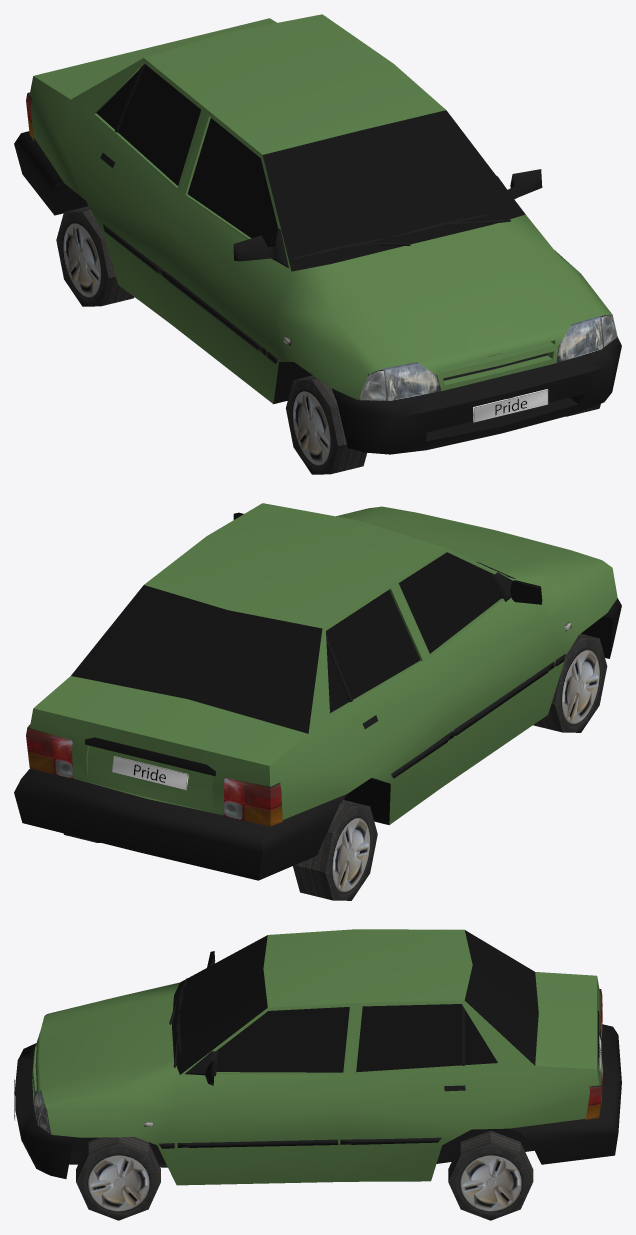
The model's file is Pride_400.FBX.
3 renders of one model, top to bottom at view 1: azimuth 30°, elevation 25°; view 2: azimuth 150°, elevation 25°; view 3: azimuth 270°, elevation 25°, orthographic. The views are drawn at different scales.
Parts seen in each view (by area): view 1: Body, Glass, Plastik, Wheel, Wheel3, HeadLight, UnderCar, Plaque; view 2: Body, Glass, Plastik, Wheel3, BackLight, Wheel, UnderCar, Plaque; view 3: Body, Glass, Plastik, Wheel2, Wheel1, UnderCar, BackLight, HeadLight.
Part boxes in pixels (box(x1,y1,x2,y2)): Body: box(29, 14, 612, 403); Glass: box(96, 64, 525, 271); Plastik: box(14, 63, 621, 454); Wheel: box(286, 375, 366, 474); Wheel3: box(56, 206, 134, 306); HeadLight: box(358, 314, 617, 400); UnderCar: box(52, 183, 312, 404); Plaque: box(473, 389, 548, 422); Body: box(30, 503, 617, 824); Glass: box(71, 552, 501, 733); Plastik: box(14, 512, 621, 880); Wheel3: box(293, 800, 377, 900); BackLight: box(26, 724, 282, 826); Wheel: box(533, 633, 607, 732); UnderCar: box(334, 613, 612, 824); Plaque: box(111, 756, 188, 790); Body: box(32, 929, 603, 1185); Glass: box(172, 930, 538, 1074); Plastik: box(14, 951, 621, 1178); Wheel2: box(448, 1130, 533, 1220); Wheel1: box(76, 1137, 160, 1220); UnderCar: box(69, 1128, 534, 1167); BackLight: box(585, 989, 602, 1119); HeadLight: box(33, 1090, 51, 1134).
Size of the model in its own units: 176 by 138 by 371.
10 materials, 5 textured.
